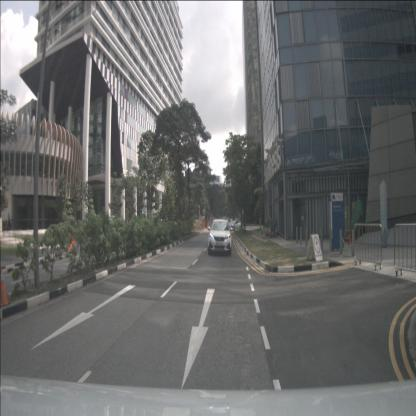movable_object-trafficcone: (0, 266, 11, 308), (274, 226, 278, 238), (268, 227, 272, 238), (260, 226, 264, 236), (348, 233, 351, 243), (264, 228, 267, 236)
vehicle-car: (208, 219, 232, 255), (228, 220, 241, 232)
